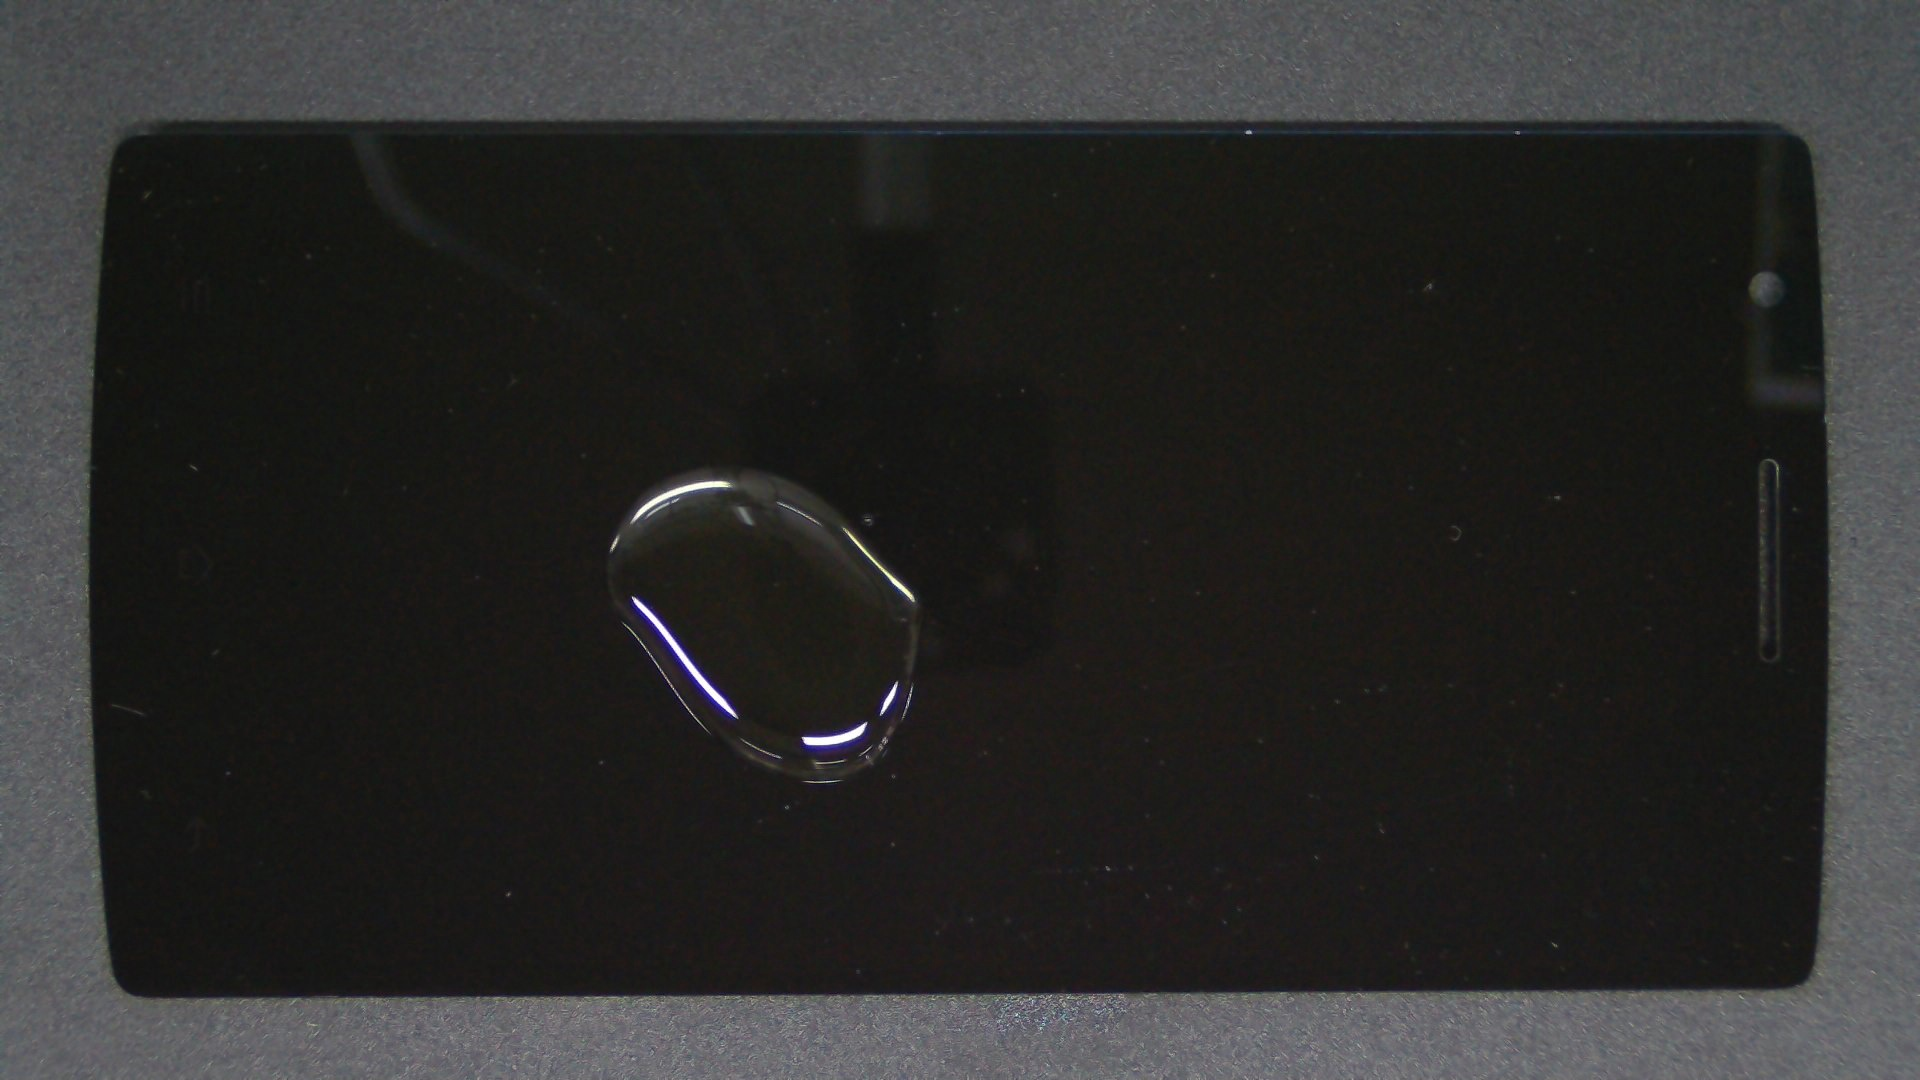oil: (356, 233, 1065, 702)
